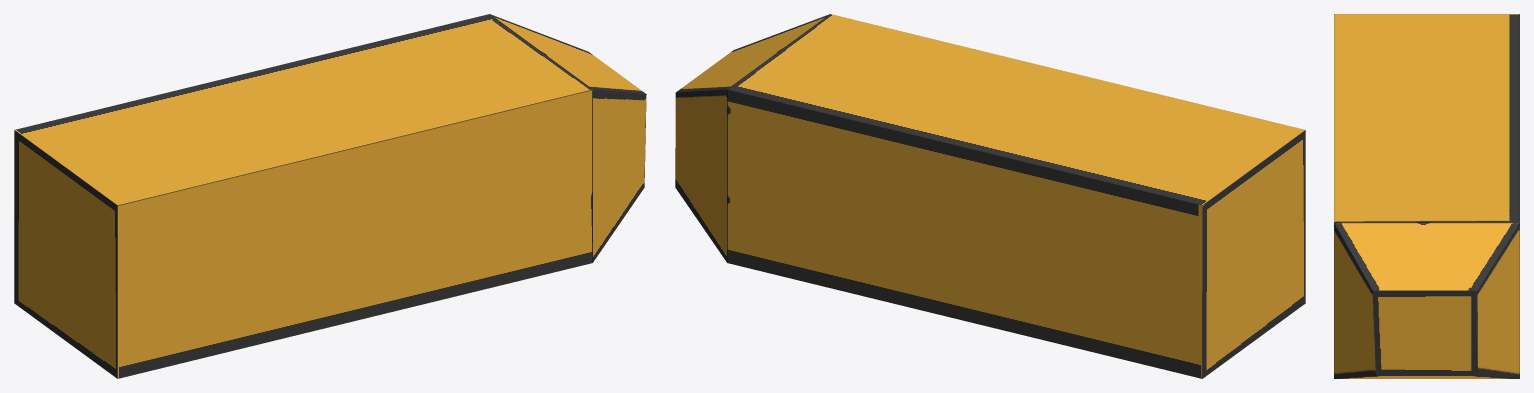
Rendered from Bullet.fbx.
3 views of the same model, side by side, from view 1: azimuth 30°, elevation 25°; view 2: azimuth 150°, elevation 25°; view 3: azimuth 270°, elevation 25° (orthographic). The views are drawn at different scales.
Visible parts, largest first — view 1: Cube; view 2: Cube; view 3: Cube.
Part boxes in pixels (x1=…): Cube: x1=14, y1=14, x2=646, y2=378; Cube: x1=675, y1=14, x2=1305, y2=378; Cube: x1=1334, y1=14, x2=1519, y2=378.
Bounding box in the file's own units: 193 × 58.1 × 62.58.
1 material, 1 textured.
